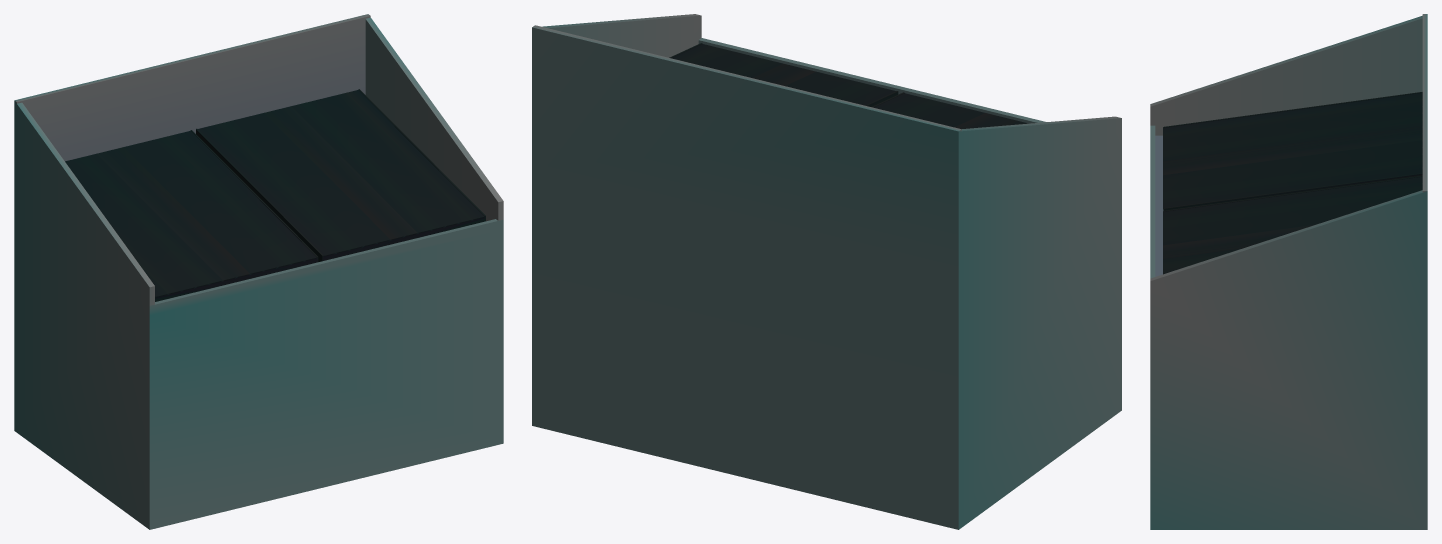
The picture shows the model from 3 angles, left to right: view 1: azimuth 30°, elevation 25°; view 2: azimuth 150°, elevation 25°; view 3: azimuth 270°, elevation 25°; orthographic projection. The views are drawn at different scales.
Parts seen in each view (by area): view 1: base, end_wall, sloping_panel.001, sloping_panel, end_wall.001; view 2: base, end_wall, sloping_panel.001, end_wall.001, sloping_panel; view 3: end_wall.001, sloping_panel, end_wall, sloping_panel.001, base.
Part boxes in pixels (bbox=[...]): base: bbox=[14, 14, 503, 529]; end_wall: bbox=[14, 101, 154, 529]; sloping_panel.001: bbox=[196, 89, 485, 261]; sloping_panel: bbox=[65, 130, 318, 301]; end_wall.001: bbox=[365, 17, 503, 221]; base: bbox=[532, 25, 1046, 529]; end_wall: bbox=[958, 116, 1121, 529]; sloping_panel.001: bbox=[669, 43, 898, 106]; end_wall.001: bbox=[542, 14, 701, 57]; sloping_panel: bbox=[871, 92, 1028, 129]; end_wall.001: bbox=[1150, 190, 1427, 529]; sloping_panel: bbox=[1163, 92, 1422, 210]; end_wall: bbox=[1150, 15, 1422, 135]; sloping_panel.001: bbox=[1163, 175, 1422, 274]; base: bbox=[1150, 14, 1427, 278].
Bounding box in the file's own units: 0.8 × 0.714 × 0.53.
